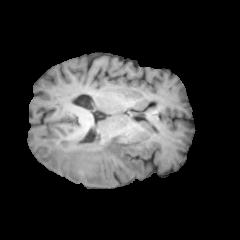glioma: (40, 135, 142, 186)
